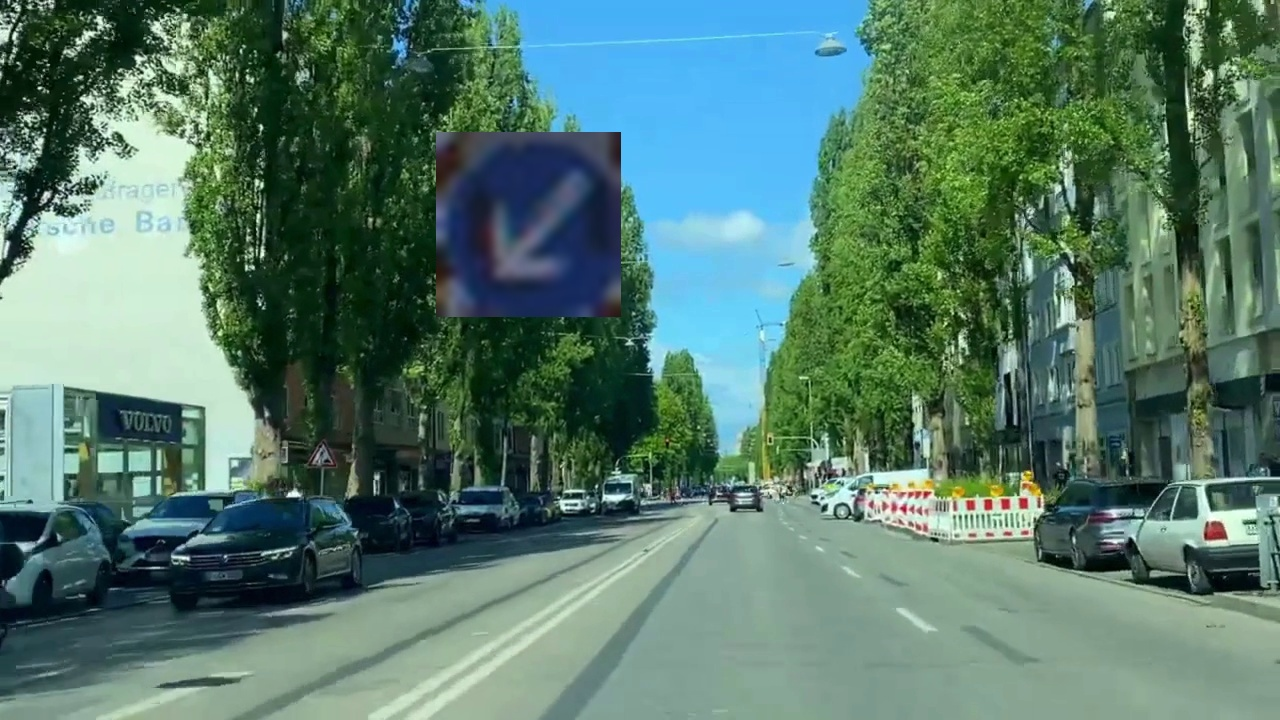Keep left: (436, 132, 621, 317)
